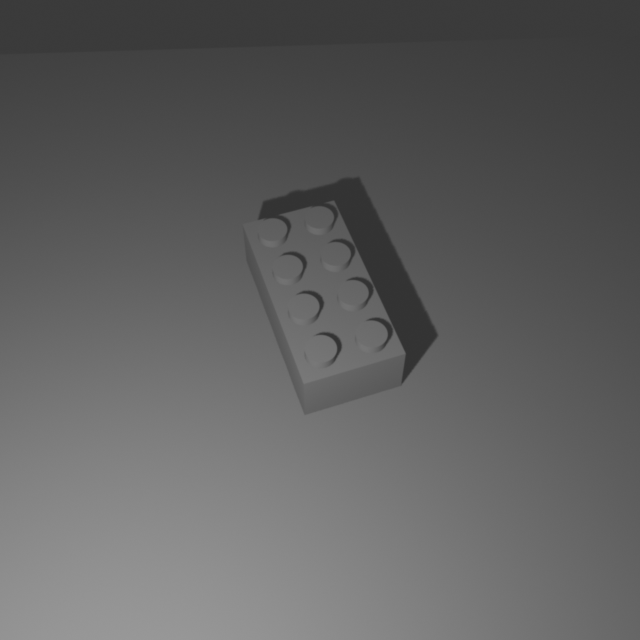lego_2x4: (242, 194, 407, 415)
